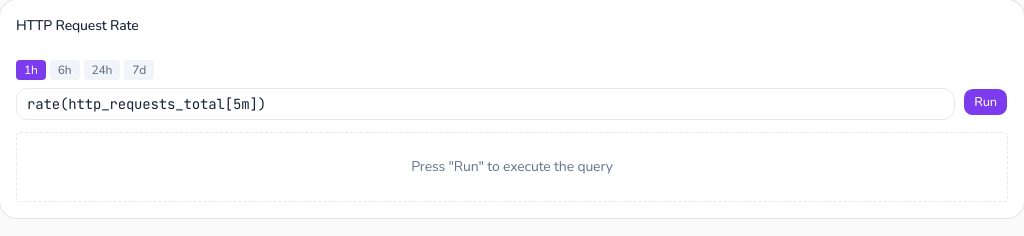
Scenario: PromQLChartCard › shows 'No data' when the query returns an empty result set
The width and height of the screenshot is (1024, 236).
Click the button "Run". click: (986, 102)
box: [963, 88, 1008, 116]
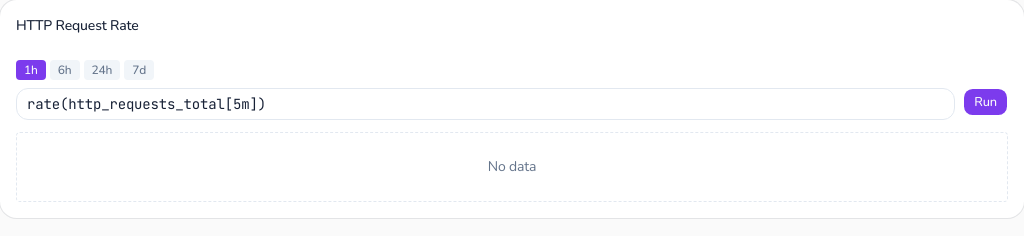
Expected: the text "No data" is shown, [16, 132, 1008, 202]
